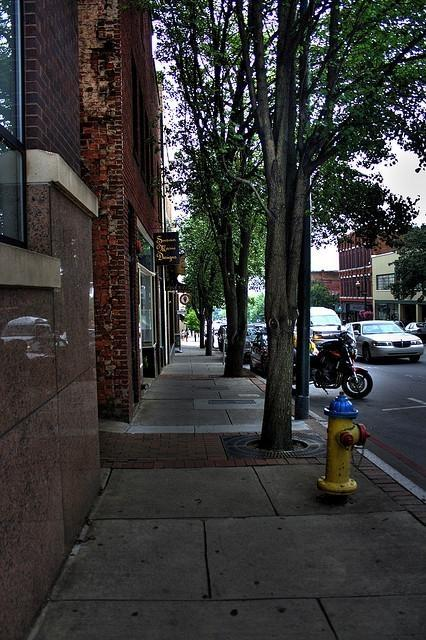car: (349, 318, 422, 362), (294, 307, 347, 346), (222, 324, 268, 364), (249, 333, 268, 378), (403, 321, 425, 334), (395, 321, 404, 328)
motorcycle: (309, 324, 374, 396)
